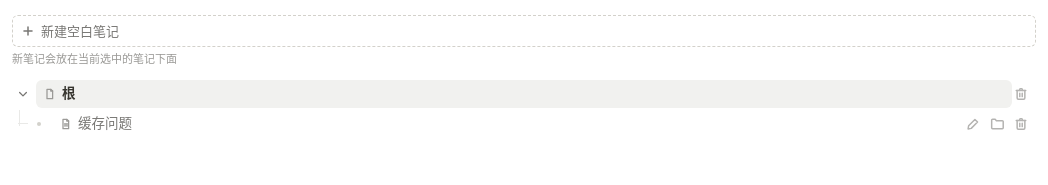
Test: tree and breadcrumb navigation › creates a blank note below the current selection and opens it
Click the button "新建空白笔记" at (80,31), box top-left (12, 15), bottom-right (1036, 47)
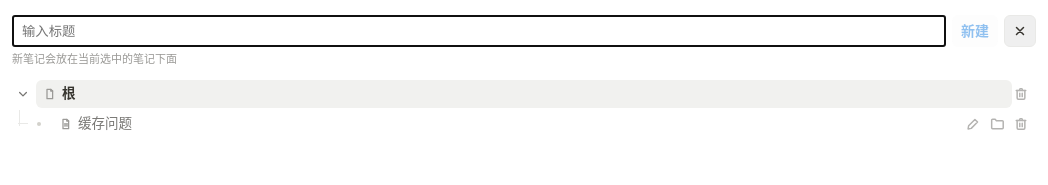
Type "会议记录" into the field named "空白笔记标题" at (479,31), box top-left (12, 15), bottom-right (946, 47)
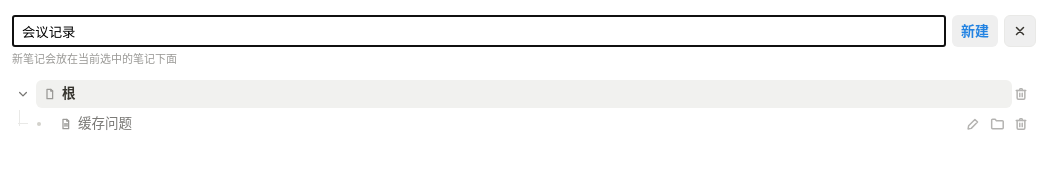
Click the button "新建" at (975,31), box top-left (952, 15), bottom-right (998, 47)
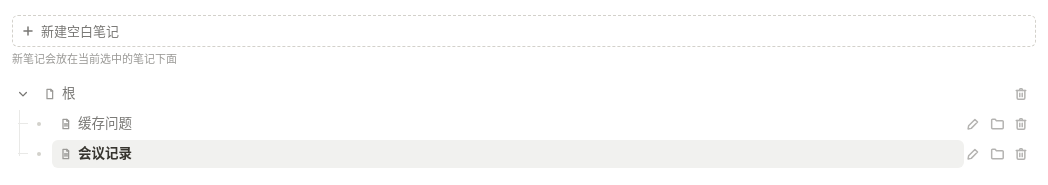
Result: the button "会议记录" is shown at top-left (52, 140), bottom-right (964, 168)
